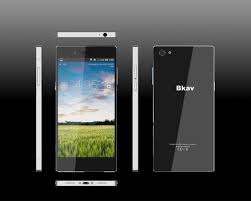bphone: (148, 41, 218, 175), (52, 43, 118, 175)
